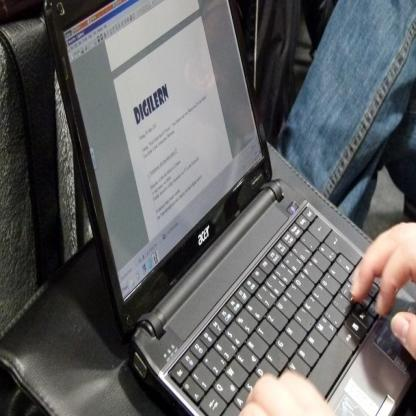board: (42, 0, 415, 415)
